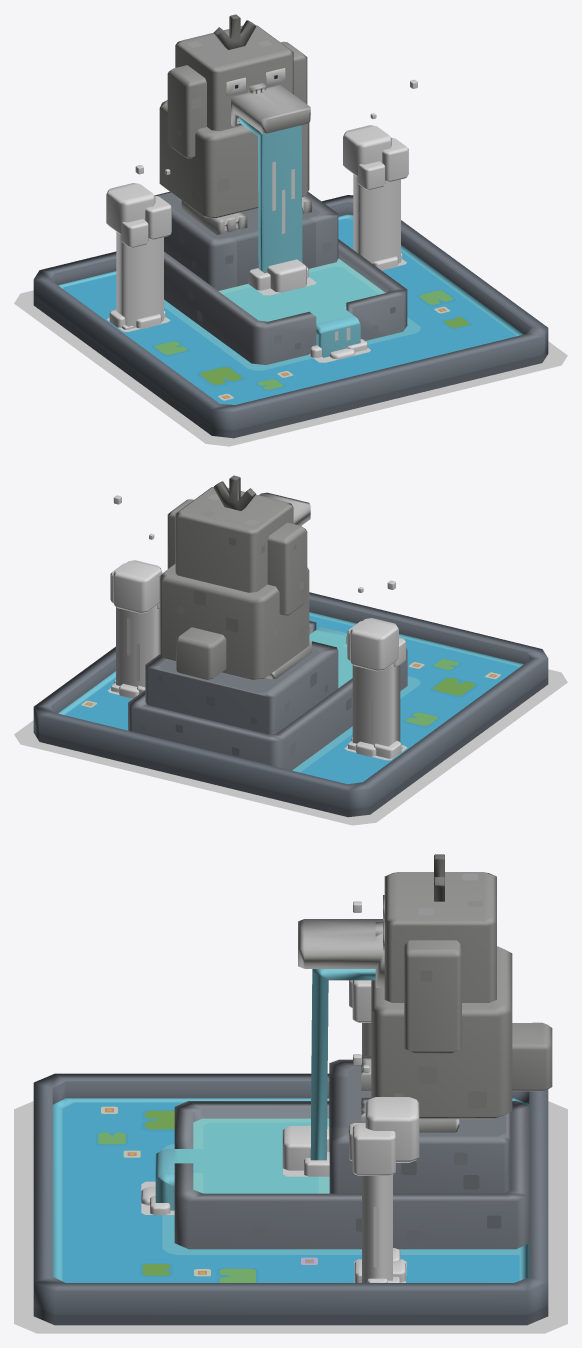
File: G_makeover_M22_fountain_1.fbx
3 views of the same model, one above another, from view 1: azimuth 30°, elevation 25°; view 2: azimuth 150°, elevation 25°; view 3: azimuth 270°, elevation 25° (orthographic). The views are drawn at different scales.
Visible parts, largest first — view 1: G_makeover_pm54_fountain:base_kamex, ground, G_makeover_pm54_fountain:big_34, G_makeover_pm54_fountain:big_33, G_makeover_pm54_fountain:big_31, G_makeover_pm54_fountain:big_4, G_makeover_pm54_fountain:big_1, G_makeover_pm54_fountain:big_24, G_makeover_pm54_fountain:big_5, G_makeover_pm54_fountain:big_23, G_makeover_pm54_fountain:big_6; view 2: G_makeover_pm54_fountain:base_kamex, ground, G_makeover_pm54_fountain:big_34, G_makeover_pm54_fountain:big_33, G_makeover_pm54_fountain:big_31, G_makeover_pm54_fountain:big_4; view 3: G_makeover_pm54_fountain:base_kamex, ground, G_makeover_pm54_fountain:big_33, G_makeover_pm54_fountain:big_4, G_makeover_pm54_fountain:big_5, G_makeover_pm54_fountain:big_1, G_makeover_pm54_fountain:big_24.
Part boxes in pixels (x1,y1,x2,y2): G_makeover_pm54_fountain:base_kamex: [33, 14, 548, 438]; ground: [14, 290, 567, 446]; G_makeover_pm54_fountain:big_34: [116, 232, 163, 327]; G_makeover_pm54_fountain:big_33: [353, 174, 400, 263]; G_makeover_pm54_fountain:big_31: [106, 183, 155, 234]; G_makeover_pm54_fountain:big_4: [343, 125, 391, 176]; G_makeover_pm54_fountain:big_1: [267, 259, 306, 292]; G_makeover_pm54_fountain:big_24: [145, 195, 171, 239]; G_makeover_pm54_fountain:big_5: [382, 138, 408, 181]; G_makeover_pm54_fountain:big_23: [120, 219, 148, 247]; G_makeover_pm54_fountain:big_6: [357, 161, 385, 189]; G_makeover_pm54_fountain:base_kamex: [33, 475, 548, 817]; ground: [14, 669, 567, 825]; G_makeover_pm54_fountain:big_34: [352, 663, 400, 746]; G_makeover_pm54_fountain:big_33: [116, 605, 160, 686]; G_makeover_pm54_fountain:big_31: [350, 618, 398, 671]; G_makeover_pm54_fountain:big_4: [113, 560, 162, 613]; G_makeover_pm54_fountain:base_kamex: [33, 854, 552, 1325]; ground: [14, 1101, 567, 1333]; G_makeover_pm54_fountain:big_33: [362, 1175, 392, 1282]; G_makeover_pm54_fountain:big_4: [365, 1097, 419, 1162]; G_makeover_pm54_fountain:big_5: [352, 1123, 395, 1175]; G_makeover_pm54_fountain:big_1: [282, 1126, 310, 1170]; G_makeover_pm54_fountain:big_24: [352, 980, 371, 1022].
Bounding box in the file's own units: 6.45 × 4.63 × 6.45.
